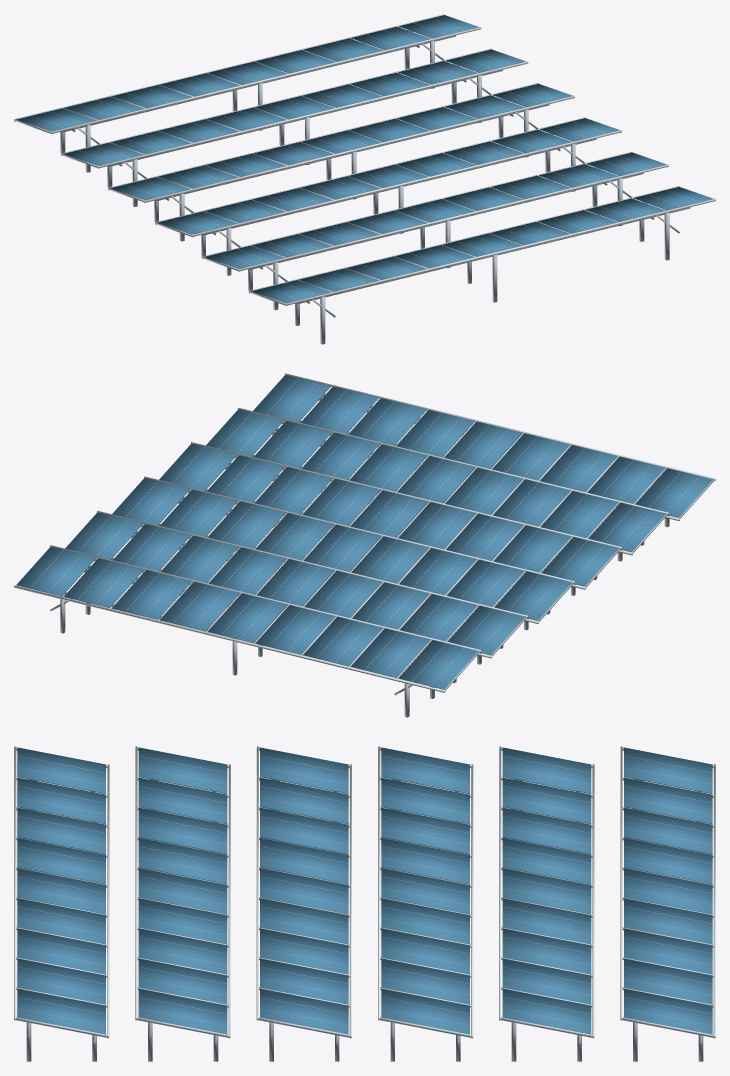
The model's file is pv-block.glb.
The picture shows the model from 3 angles, top to bottom: view 1: azimuth 30°, elevation 25°; view 2: azimuth 150°, elevation 25°; view 3: azimuth 270°, elevation 25°; orthographic projection. The views are drawn at different scales.
Visible parts, largest first — view 1: PV_CELLS, PV_FRAME, PV_SUPPORTS; view 2: PV_CELLS, PV_FRAME, PV_SUPPORTS; view 3: PV_CELLS, PV_FRAME, PV_SUPPORTS.
Boxes of the visible parts, x1,y1,x2,y2 form: PV_CELLS: (16, 15, 712, 303); PV_FRAME: (14, 14, 715, 305); PV_SUPPORTS: (60, 30, 690, 344); PV_CELLS: (16, 375, 713, 689); PV_FRAME: (14, 373, 715, 692); PV_SUPPORTS: (50, 394, 669, 717); PV_CELLS: (17, 747, 712, 1034); PV_FRAME: (14, 746, 715, 1038); PV_SUPPORTS: (26, 779, 703, 1061).
Size of the model in its own units: 9 by 1.09 by 9.84.
